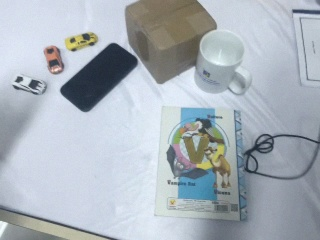book: (152, 102, 257, 224)
box: (125, 1, 218, 86)
cup: (193, 29, 254, 97)
phone: (60, 41, 139, 114)
toy_car: (12, 74, 48, 95), (65, 32, 98, 52), (43, 45, 65, 74)
